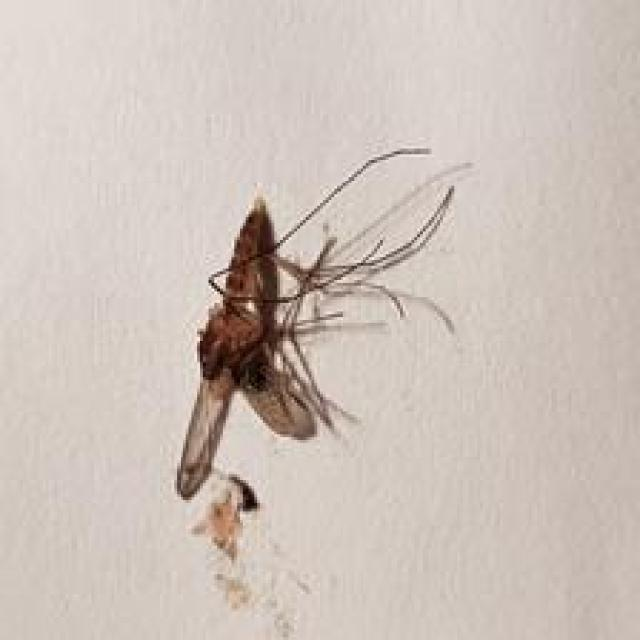Culex: (173, 144, 470, 507)
